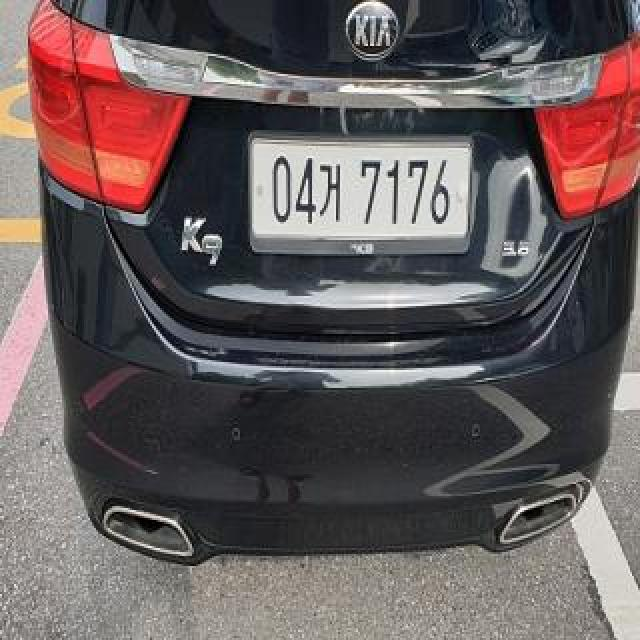illegal_plate: (249, 132, 475, 262)
